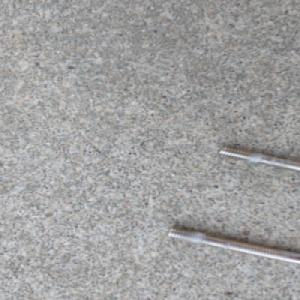ClampPart: (166, 144, 300, 264)
